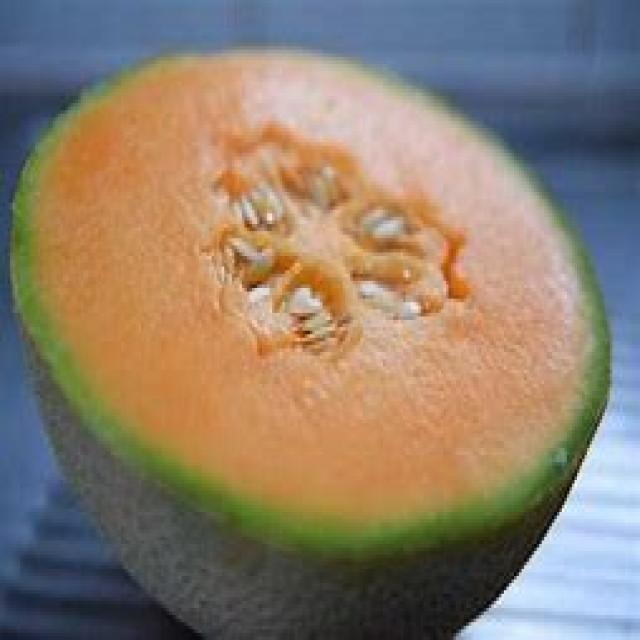Hami Melon: (7, 47, 614, 640)
